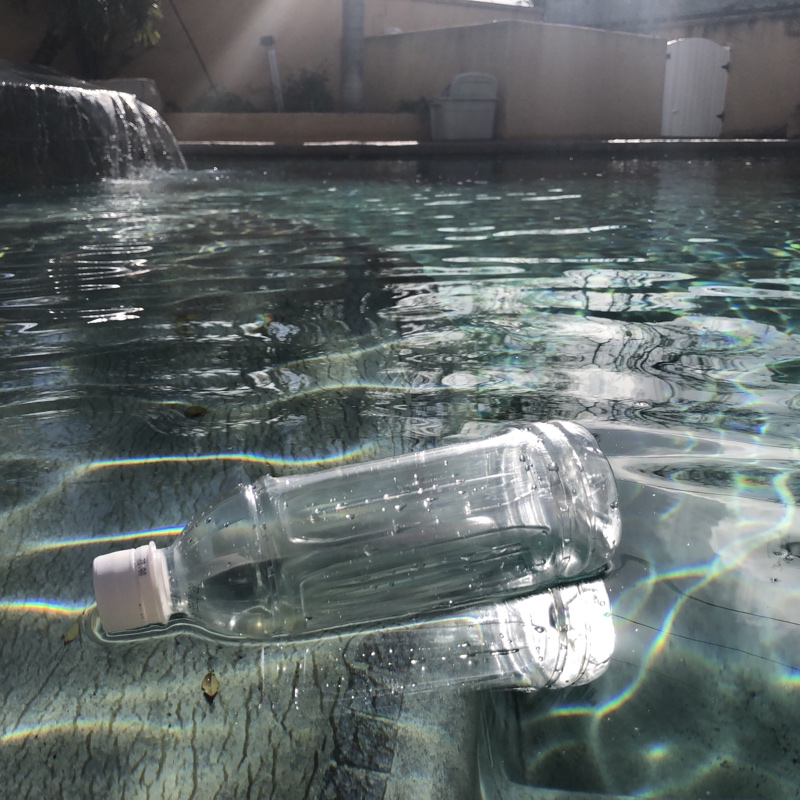Plastic Bottle: (81, 414, 632, 644)
